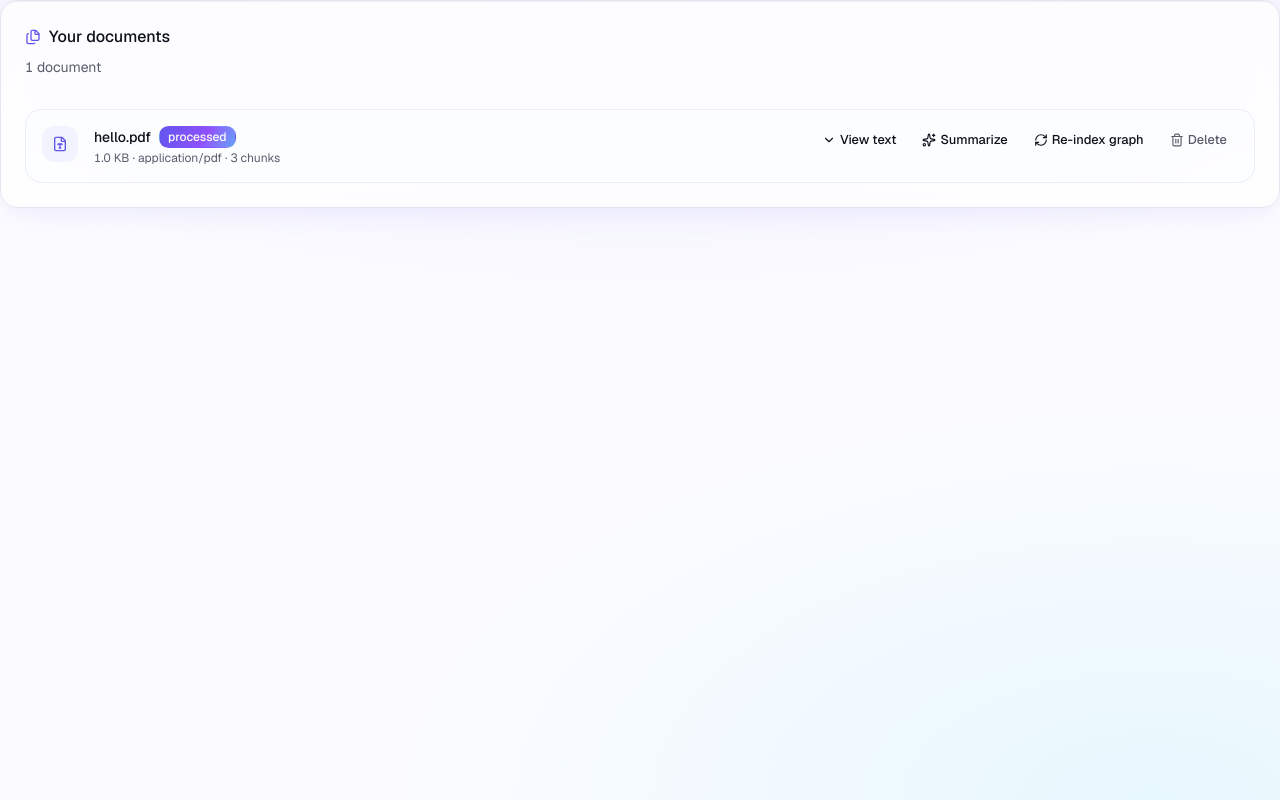
<DocumentsList /> › clicking 'View text' fetches and shows extracted text inline
The image size is (1280, 800).
Click the button "View text" at (859, 140), box [811,126,908,154]
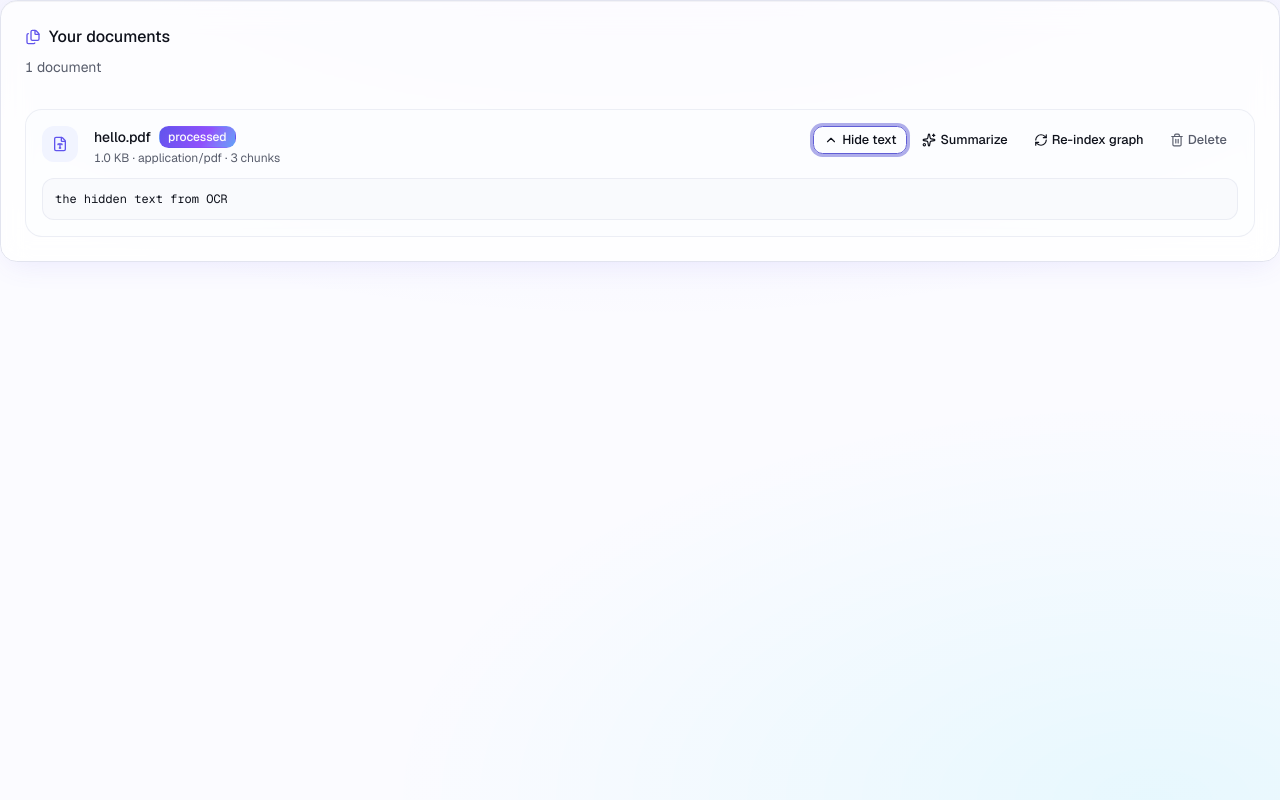
Expected: the text "the hidden text from OCR" is shown, [55,191,228,207]
